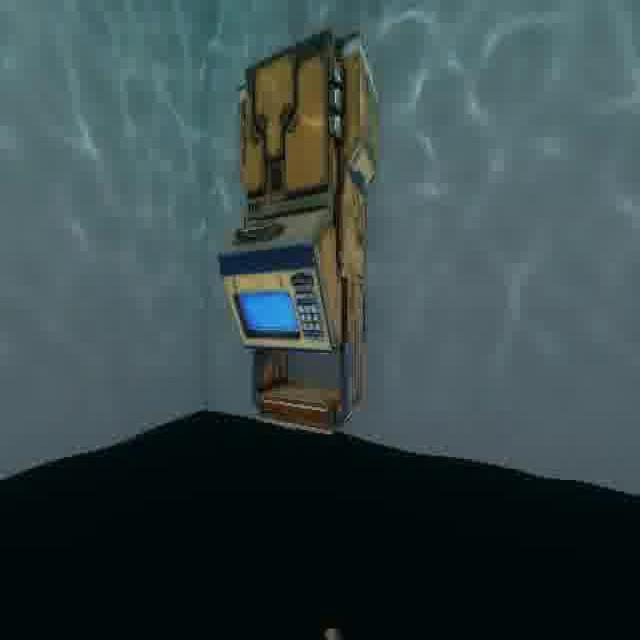Control Panel: (210, 24, 397, 438)
